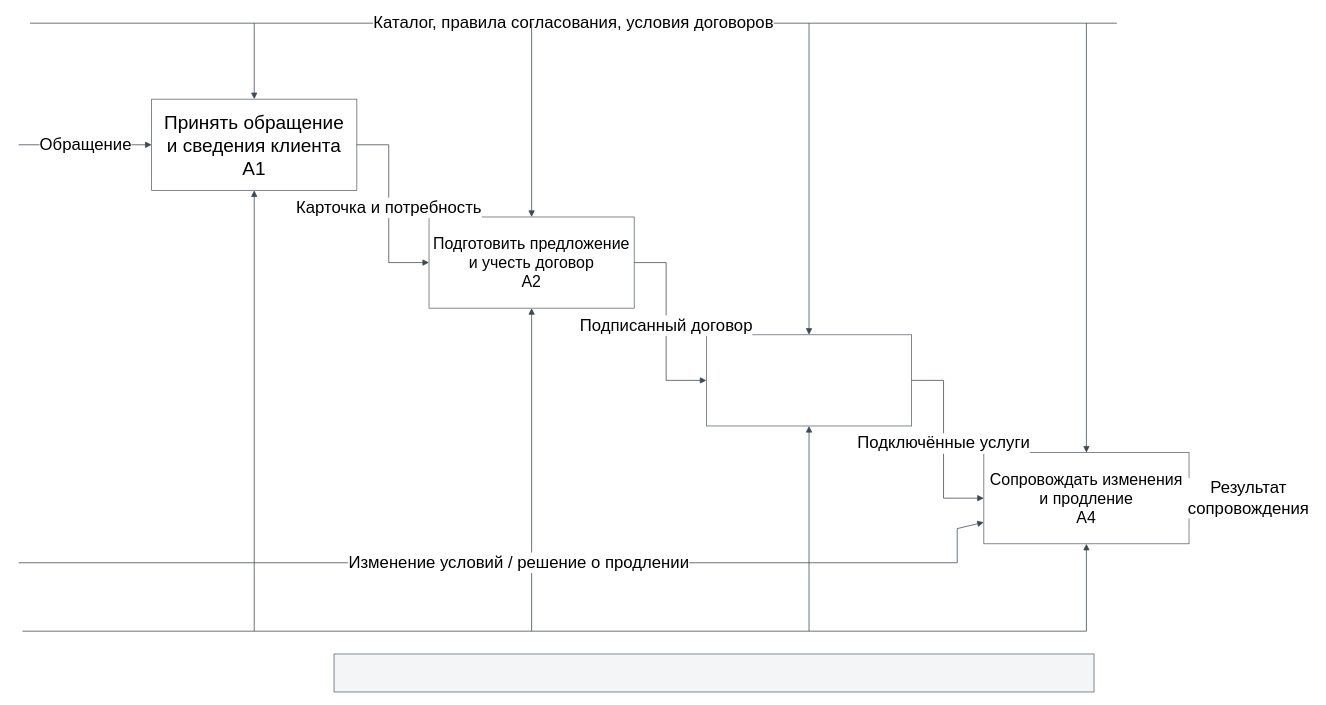
Image size: 1326x705. Some labels were removed from this diagram. The centre of each missing label's shape, as x and y in pixels:
"Механизмы: сотрудники, таблицы и почта" belongs at point 713,672.
"Организовать подключение услуг A3" belongs at point 809,380.
